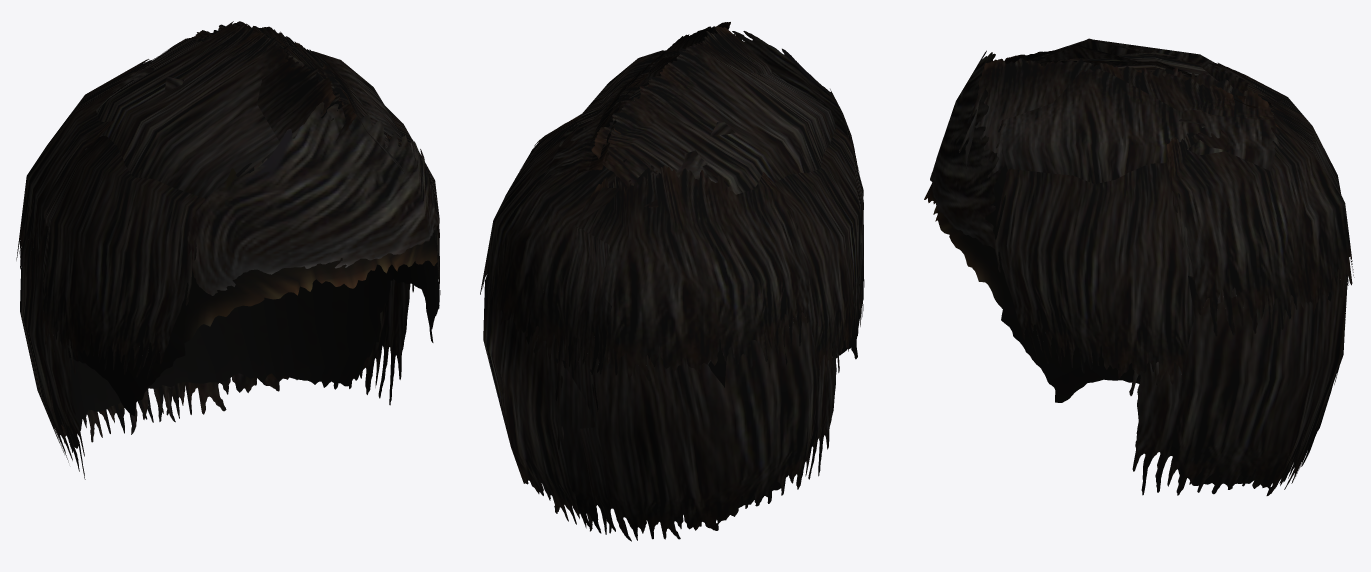
The model's file is hair_001.fbx.
The picture shows the model from 3 angles, left to right: view 1: azimuth 30°, elevation 25°; view 2: azimuth 150°, elevation 25°; view 3: azimuth 270°, elevation 25°; orthographic projection. The views are drawn at different scales.
Visible parts, largest first — view 1: hair_001; view 2: hair_001; view 3: hair_001.
Part boxes in pixels (bbox=[...]): hair_001: bbox=[16, 21, 440, 479]; hair_001: bbox=[480, 22, 864, 541]; hair_001: bbox=[924, 38, 1354, 495].
Size of the model in its own units: 18.69 by 25.16 by 21.89.
